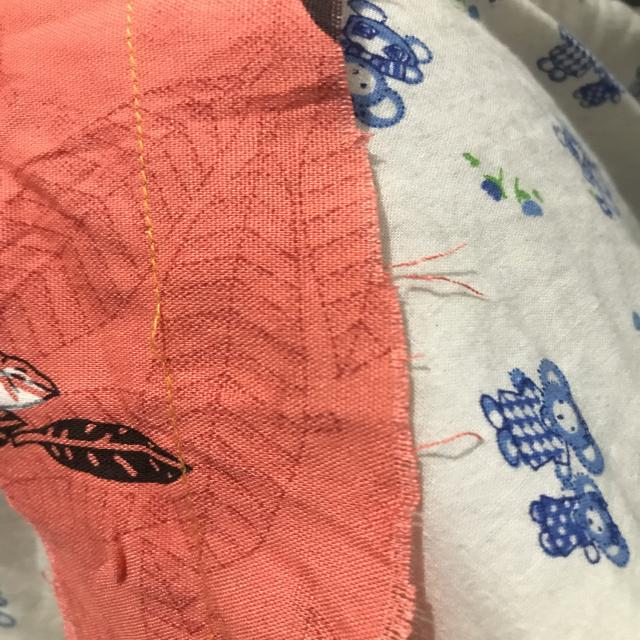good: (124, 135, 156, 250)
skip: (134, 287, 193, 374)
